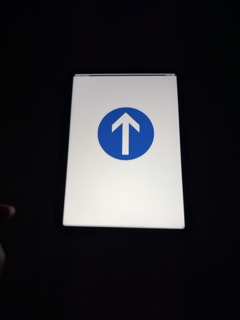GO FORWARD: (97, 107, 155, 160)
